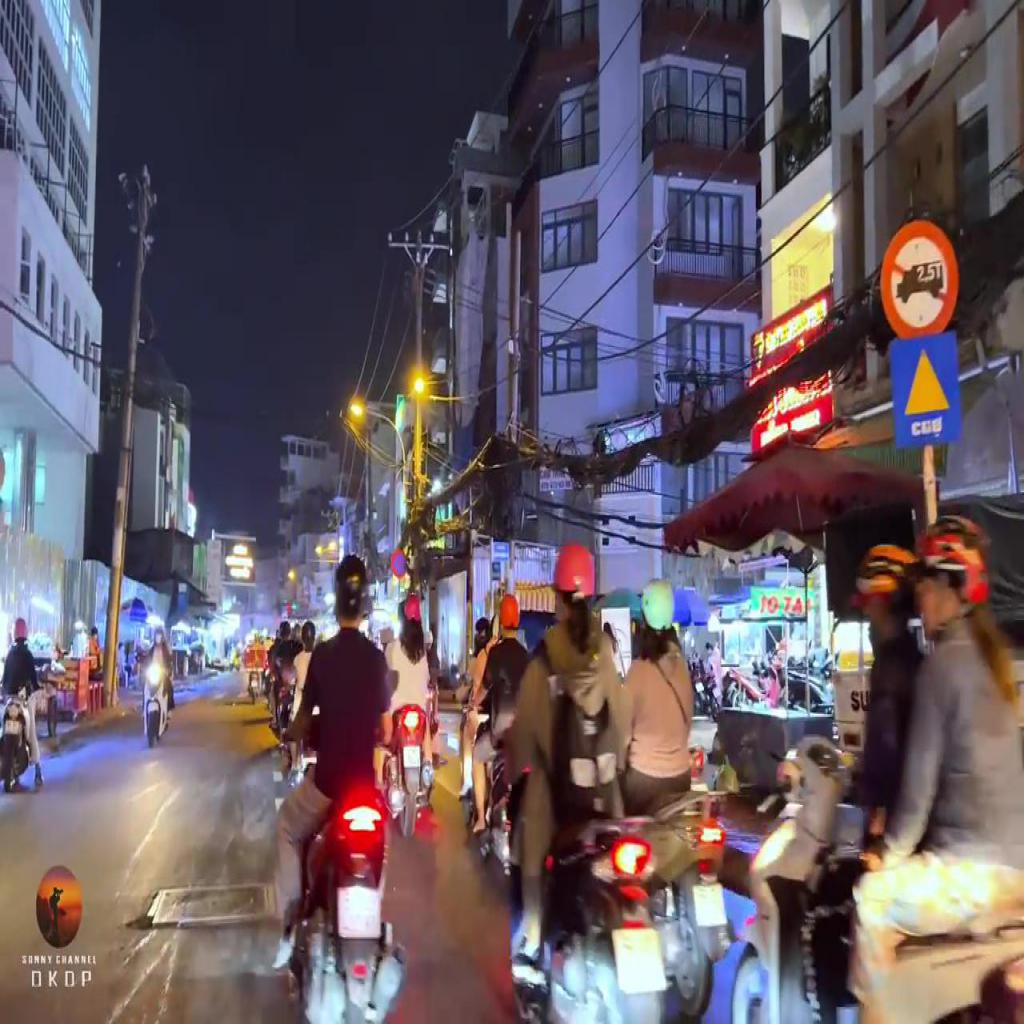cam_dung_xe_va_do_xe: (390, 546, 409, 579)
cam_o_to_tai_trong_luong_qua_2-5t: (878, 218, 958, 340)
cho: (889, 331, 962, 448)
